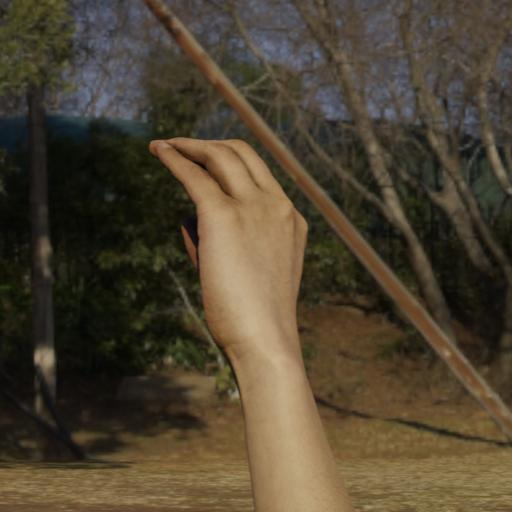C: (130, 116, 340, 366)
